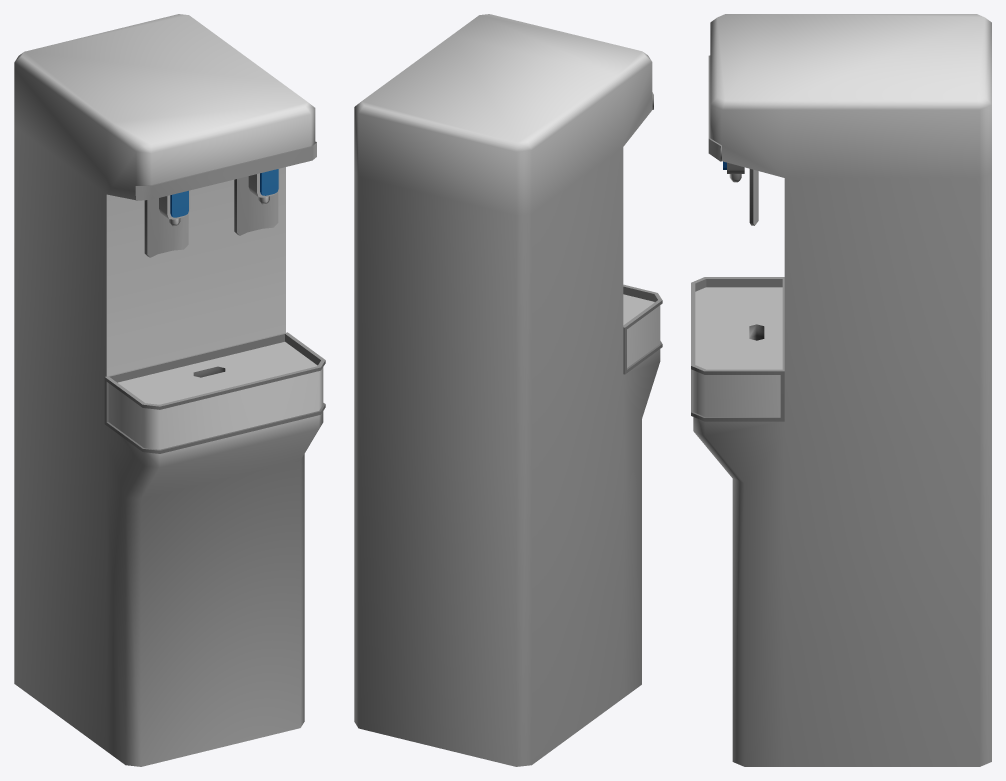
Rendered from CR_caf_Waterpurifier_001.FBX.
3 views of the same model, side by side, from view 1: azimuth 30°, elevation 25°; view 2: azimuth 150°, elevation 25°; view 3: azimuth 270°, elevation 25° (orthographic). The views are drawn at different scales.
Visible parts, largest first — view 1: CR_caf_Waterpurifier_001; view 2: CR_caf_Waterpurifier_001; view 3: CR_caf_Waterpurifier_001.
Boxes of the visible parts, box(x1,y1,x2,y2) form: CR_caf_Waterpurifier_001: box(14, 14, 325, 766); CR_caf_Waterpurifier_001: box(354, 14, 662, 766); CR_caf_Waterpurifier_001: box(691, 14, 991, 766).
Size of the model in its own units: 26.75 by 87.65 by 36.04.
